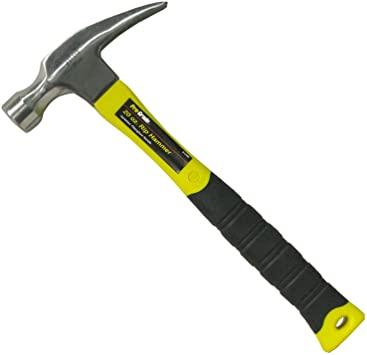Hammers: (2, 3, 367, 355)
